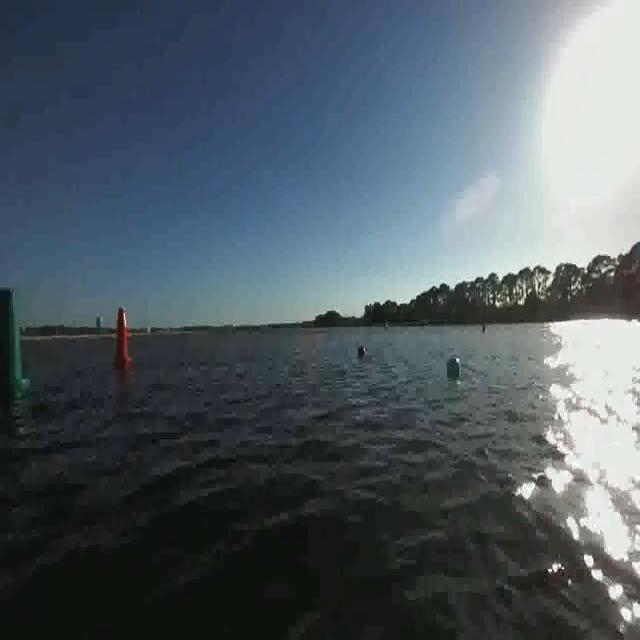black-buoy: (357, 344, 365, 358)
green-buoy: (448, 357, 460, 377)
green-column-buoy: (0, 282, 31, 391)
red-column-buoy: (111, 304, 131, 370)
